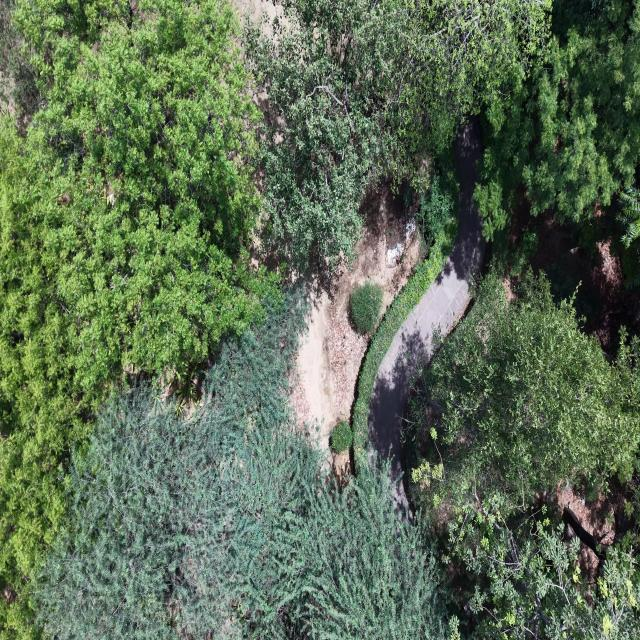DRY_AREA: (291, 186, 422, 474), (291, 188, 421, 475), (291, 186, 421, 471), (510, 197, 639, 359), (510, 196, 639, 356), (532, 219, 639, 356), (553, 484, 624, 546), (234, 0, 276, 21)
PATHWAYS: (369, 119, 485, 517)
VEGETATION_TREE: (0, 0, 639, 639), (0, 0, 545, 634), (0, 0, 277, 589), (405, 0, 639, 639), (37, 296, 447, 639), (39, 299, 314, 638), (405, 272, 639, 639), (245, 0, 550, 267), (414, 284, 639, 638), (411, 272, 639, 502), (476, 0, 639, 239), (276, 466, 449, 639), (353, 199, 457, 469), (448, 496, 639, 639), (385, 0, 552, 153), (0, 0, 41, 132), (416, 171, 458, 247), (617, 185, 639, 288), (350, 281, 383, 333), (618, 187, 639, 248), (331, 420, 352, 453)
